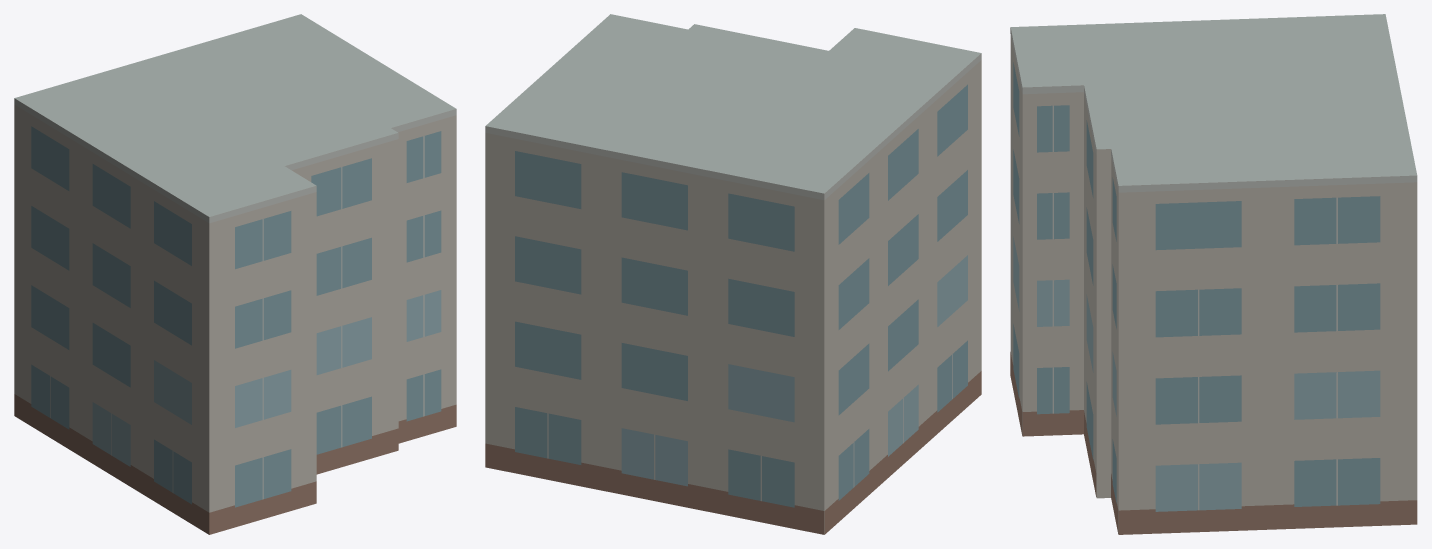
The model's file is survey-upis-32555882.glb.
3 renders of one model, left to right at view 1: azimuth 30°, elevation 25°; view 2: azimuth 150°, elevation 25°; view 3: azimuth 270°, elevation 25°, orthographic. The views are drawn at different scales.
Parts seen in each view (by area): view 1: survey-upis-32555882.tmp; view 2: survey-upis-32555882.tmp; view 3: survey-upis-32555882.tmp.
Boxes of the visible parts, x1,y1,x2,y2 form: survey-upis-32555882.tmp: (14, 14, 456, 534); survey-upis-32555882.tmp: (485, 14, 981, 534); survey-upis-32555882.tmp: (1010, 14, 1417, 534).
Bounding box in the file's own units: 13.13 × 12.42 × 13.13.
